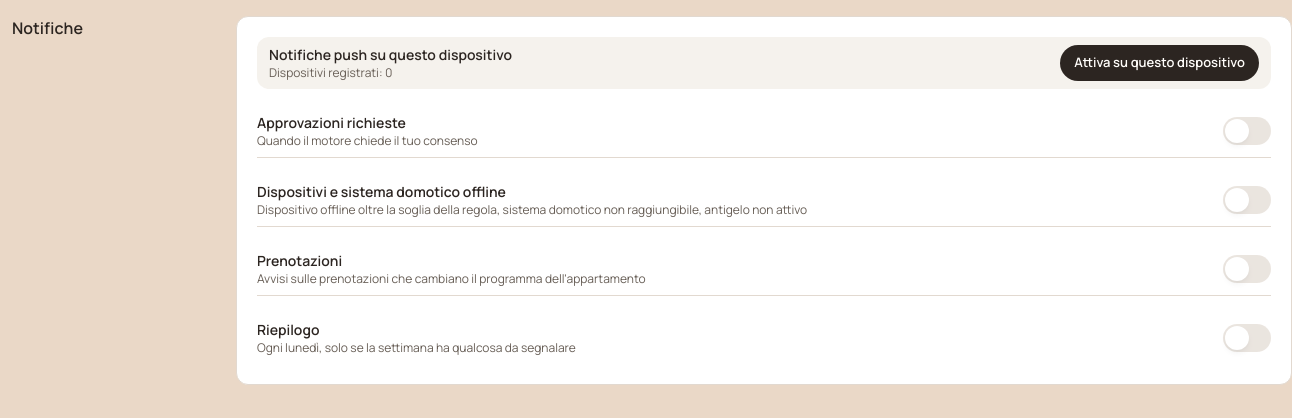
Test case: Impostazioni > Notifiche: stato delle notifiche push sul dispositivo › attivazione riuscita: «Notifiche attive su questo dispositivo» e il pulsante diventa «Disattiva»
Click the button with test id "settings-push-toggle-btn" at (1160, 63), box x1=1060 y1=45 x2=1259 y2=81
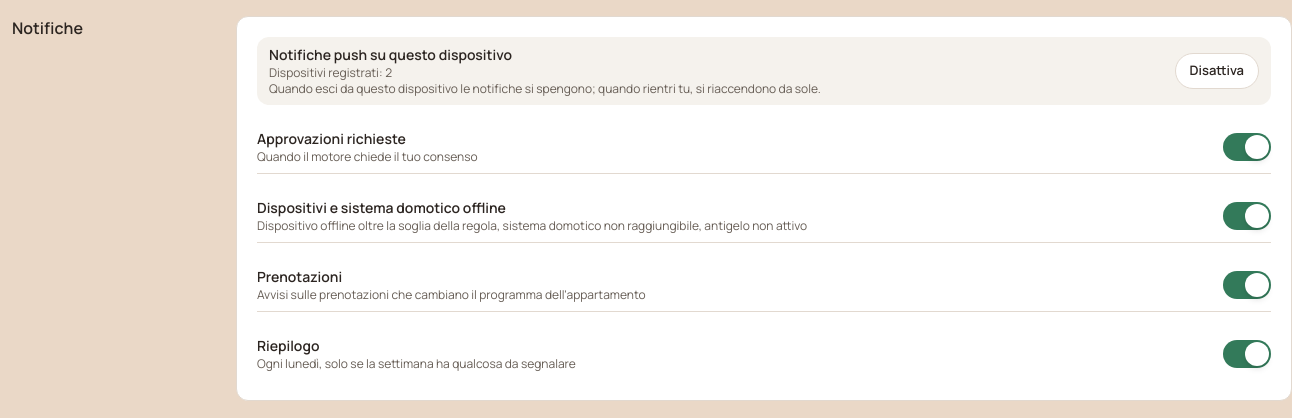
Result: the button with test id "settings-push-toggle-btn" reads "Disattiva" at x1=1175 y1=53 x2=1259 y2=89
